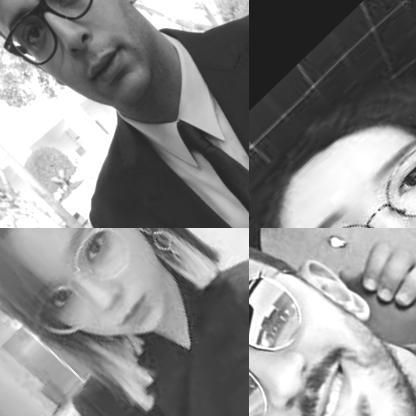glasses: (0, 228, 181, 354), (249, 247, 360, 415), (274, 103, 415, 227), (0, 0, 141, 79)
